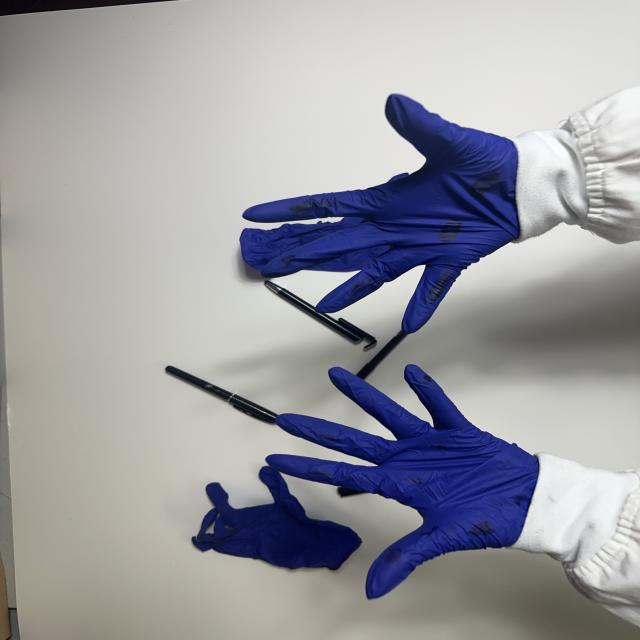gloves_contaminated: (243, 95, 520, 332), (266, 365, 539, 599)
